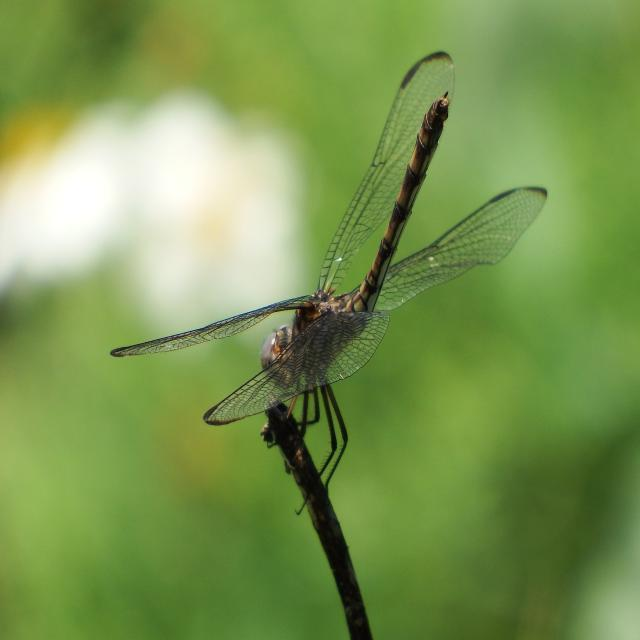dragonfly: (111, 52, 547, 487)
